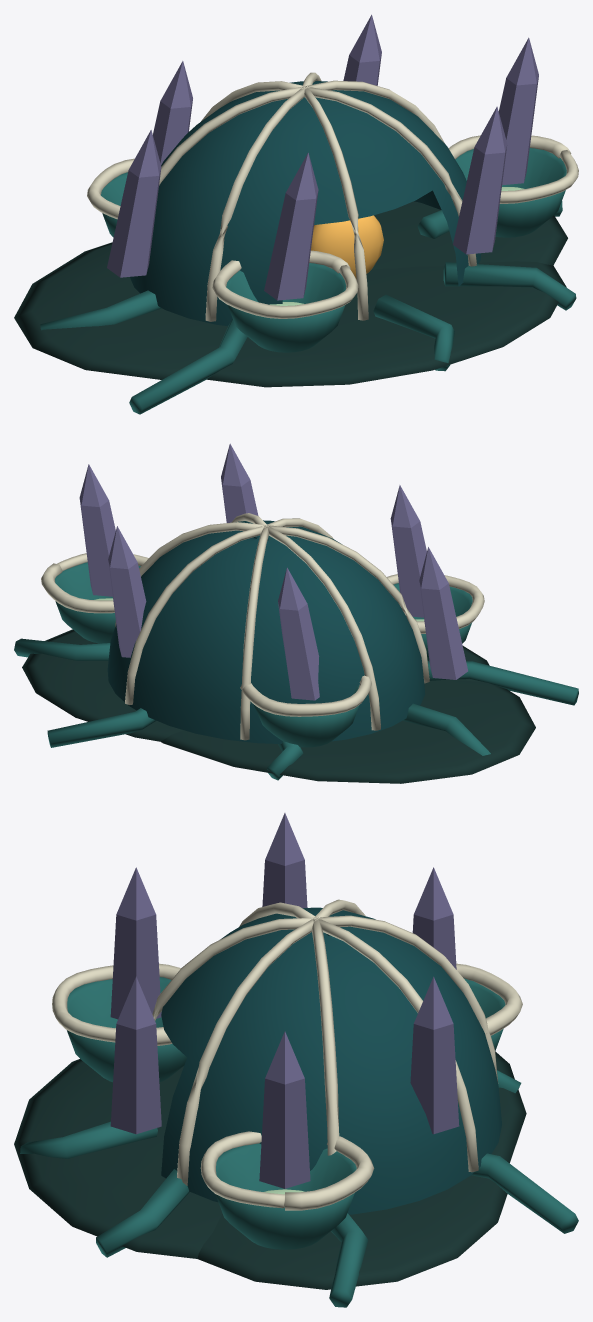
Rendered from building_memory_circle_a.obj.
3 renders of one model, top to bottom at view 1: azimuth 30°, elevation 25°; view 2: azimuth 150°, elevation 25°; view 3: azimuth 270°, elevation 25°, orthographic. The views are drawn at different scales.
Visible parts, largest first — view 1: inhabited_shell.017, irregular_anchoring_lobe.047, irregular_anchoring_lobe.045, irregular_anchoring_lobe.046, open_living_cup.044, cleaved_mineral.008, cleaved_mineral.009, cleaved_mineral.010, cleaved_mineral.005, open_living_cup.042, grown_cup_lip.044, anchoring_root.109 (+16 smaller); view 2: inhabited_shell.017, irregular_anchoring_lobe.045, irregular_anchoring_lobe.046, cleaved_mineral.008, cleaved_mineral.007, cleaved_mineral.006, cleaved_mineral.005, cleaved_mineral.009, open_living_cup.043, open_living_cup.042, anchoring_root.109, growth_seam.120 (+14 smaller); view 3: inhabited_shell.017, irregular_anchoring_lobe.047, irregular_anchoring_lobe.046, open_living_cup.042, cleaved_mineral.010, cleaved_mineral.005, cleaved_mineral.006, cleaved_mineral.009, grown_cup_lip.042, open_living_cup.044, growth_seam.125, cleaved_mineral.008 (+14 smaller).
Boxes of the visible parts, x1=… form: inhabited_shell.017: x1=130, y1=81, x2=481, y2=326; irregular_anchoring_lobe.047: x1=206, y1=261, x2=566, y2=387; irregular_anchoring_lobe.045: x1=14, y1=242, x2=227, y2=379; irregular_anchoring_lobe.046: x1=371, y1=201, x2=567, y2=269; open_living_cup.044: x1=226, y1=263, x2=346, y2=352; cleaved_mineral.008: x1=107, y1=130, x2=161, y2=277; cleaved_mineral.009: x1=264, y1=152, x2=318, y2=300; cleaved_mineral.010: x1=453, y1=106, x2=507, y2=254; cleaved_mineral.005: x1=498, y1=37, x2=538, y2=185; open_living_cup.042: x1=455, y1=148, x2=566, y2=237; grown_cup_lip.044: x1=212, y1=250, x2=358, y2=318; anchoring_root.109: x1=129, y1=319, x2=247, y2=414; inhabited_shell.017: x1=107, y1=520, x2=425, y2=743; irregular_anchoring_lobe.045: x1=161, y1=679, x2=535, y2=783; irregular_anchoring_lobe.046: x1=22, y1=629, x2=183, y2=741; cleaved_mineral.008: x1=419, y1=547, x2=467, y2=679; cleaved_mineral.007: x1=278, y1=567, x2=319, y2=700; cleaved_mineral.006: x1=108, y1=526, x2=146, y2=657; cleaved_mineral.005: x1=79, y1=464, x2=115, y2=596; cleaved_mineral.009: x1=390, y1=485, x2=426, y2=617; open_living_cup.043: x1=254, y1=685, x2=359, y2=747; open_living_cup.042: x1=55, y1=562, x2=140, y2=643; anchoring_root.109: x1=427, y1=661, x2=578, y2=705; growth_seam.120: x1=125, y1=525, x2=266, y2=704; inhabited_shell.017: x1=161, y1=907, x2=501, y2=1214; irregular_anchoring_lobe.047: x1=14, y1=1059, x2=222, y2=1258; irregular_anchoring_lobe.046: x1=197, y1=1175, x2=507, y2=1289; open_living_cup.042: x1=215, y1=1143, x2=356, y2=1249; cleaved_mineral.010: x1=110, y1=976, x2=161, y2=1134; cleaved_mineral.005: x1=259, y1=1031, x2=310, y2=1188; cleaved_mineral.006: x1=410, y1=976, x2=459, y2=1134; cleaved_mineral.009: x1=110, y1=867, x2=161, y2=1019; grown_cup_lip.042: x1=200, y1=1131, x2=374, y2=1210; open_living_cup.044: x1=67, y1=977, x2=186, y2=1082; growth_seam.125: x1=177, y1=918, x2=317, y2=1185; cleaved_mineral.008: x1=262, y1=813, x2=307, y2=908.
Size of the model in its own units: 3.59 by 1.34 by 2.73.
